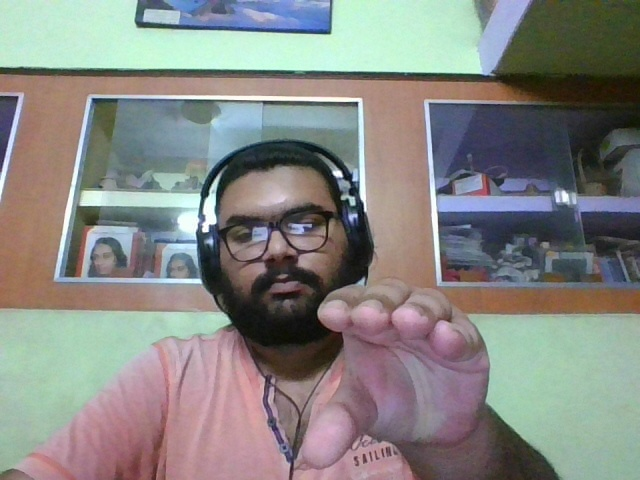no: (302, 276, 511, 476)
